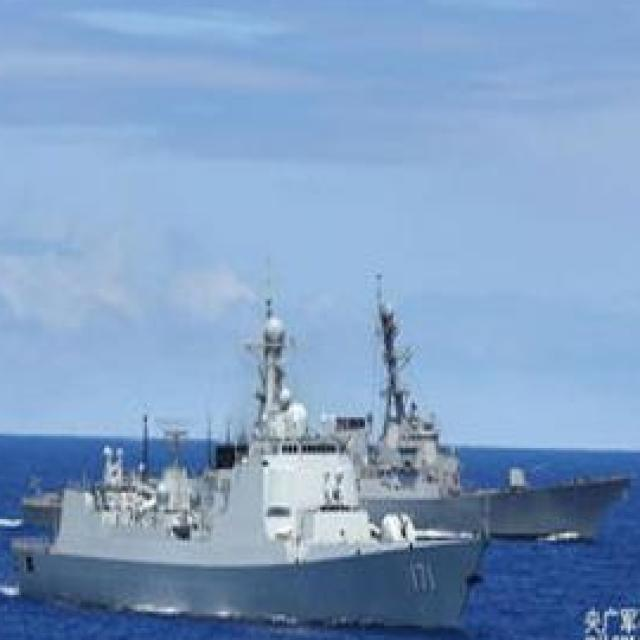sailboat: (1, 296, 477, 630), (313, 272, 640, 548)
